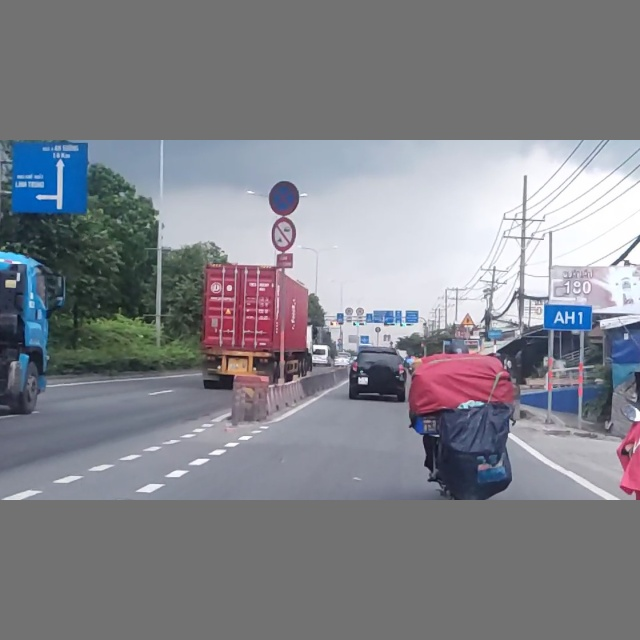P.111: (270, 217, 297, 251)
P.130: (269, 181, 299, 215)
